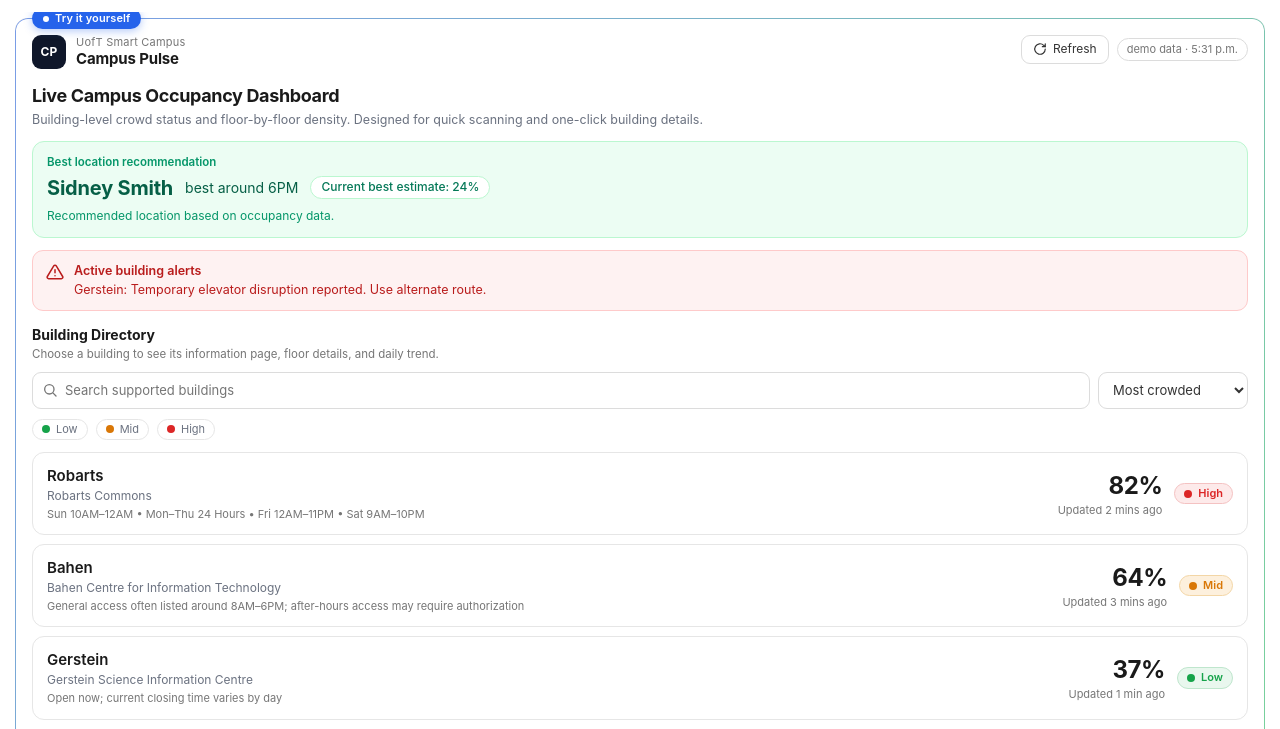
Test case: opens a building detail page and returns with Back
This screenshot has width=1280, height=729.
What coordinates should you click on to do the following:
click the button "Robarts"
I would click on:
 (75, 475)
Its box is 32,452 -> 1248,535.
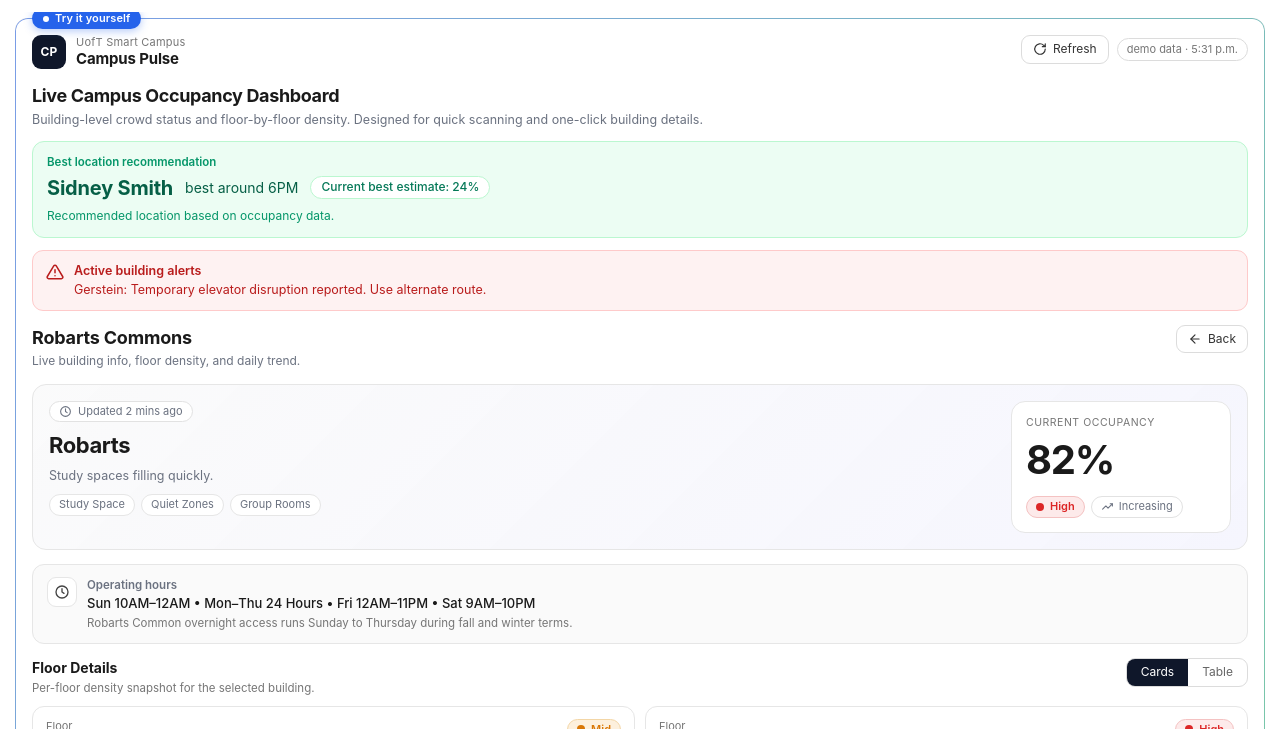
Check: the text "Floor Details" is shown, box 32,659 -> 117,676
Note: the floor table view is reachable
What coordinates should you click on to do the following:
click the button "Table"
I would click on:
 (1218, 672)
Its box is 1188,659 -> 1247,686.
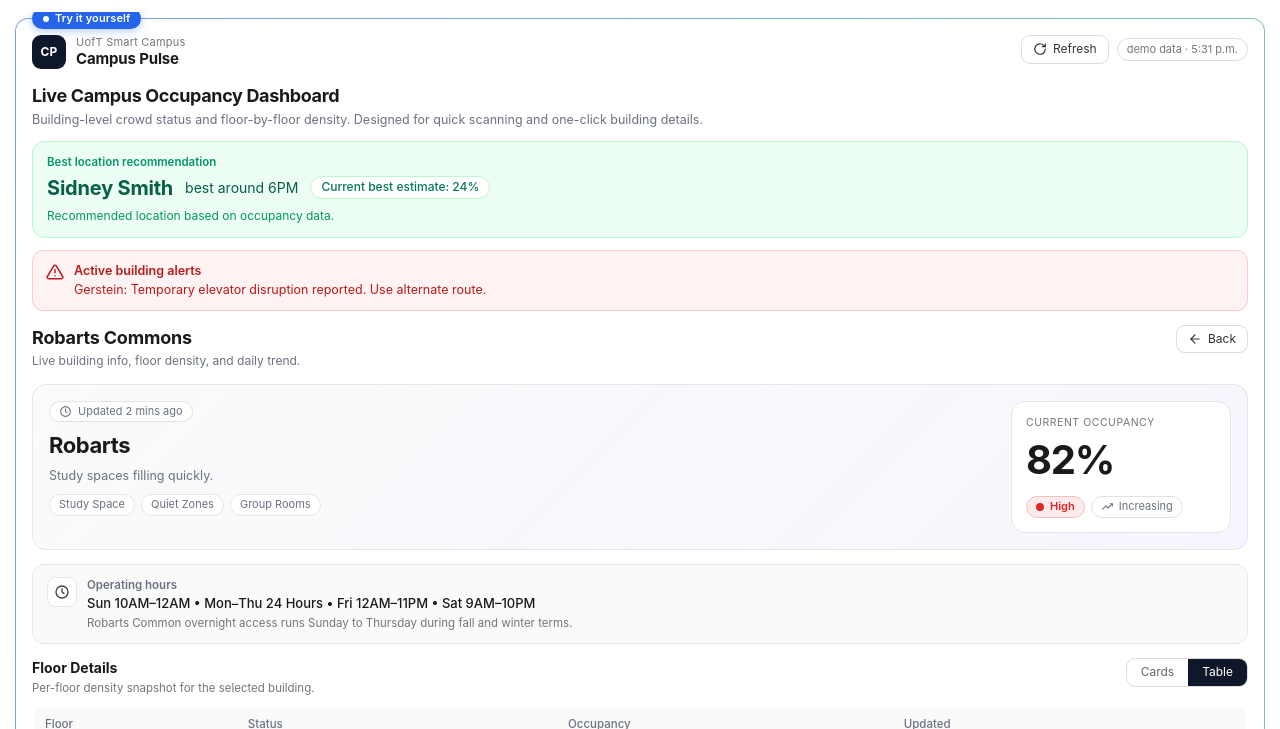
What coordinates should you click on to do the following:
click the button "Back"
I would click on:
 (1212, 339)
Its box is 1176,325 -> 1248,353.
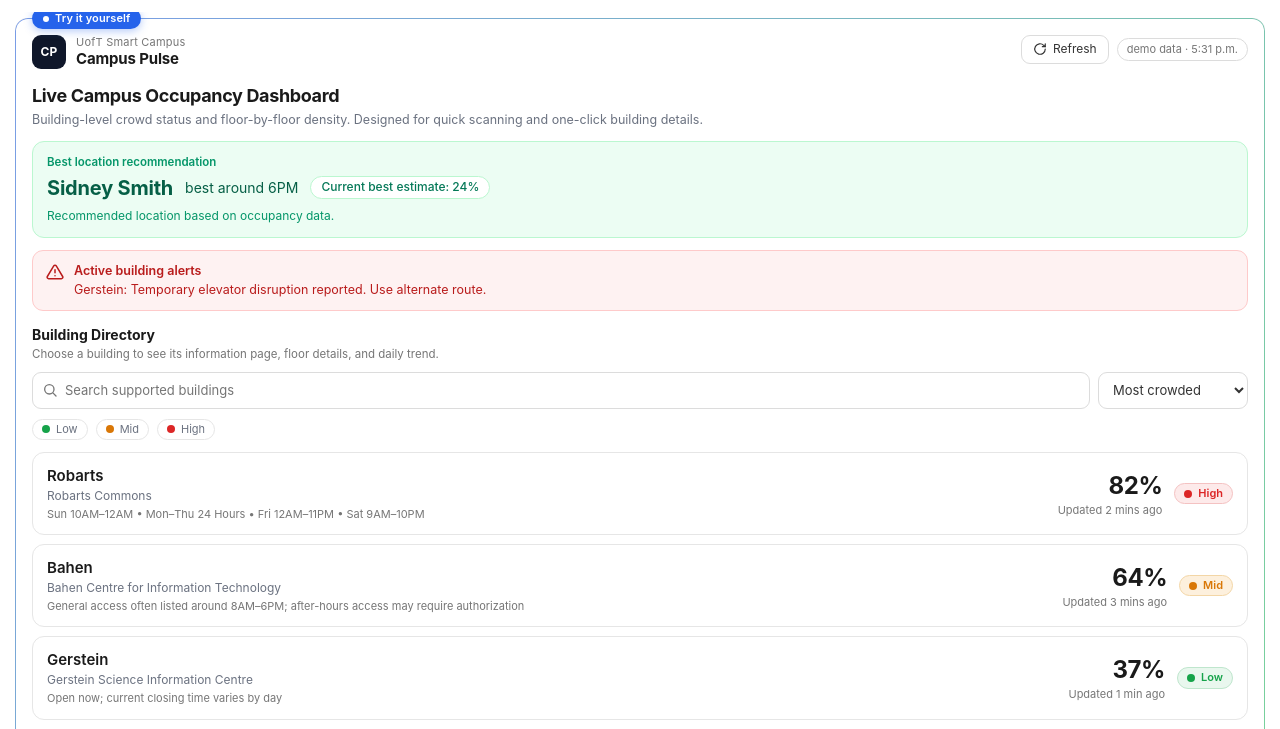
Check: the search field labelled "Search supported buildings" is shown, box 32,372 -> 1090,409
